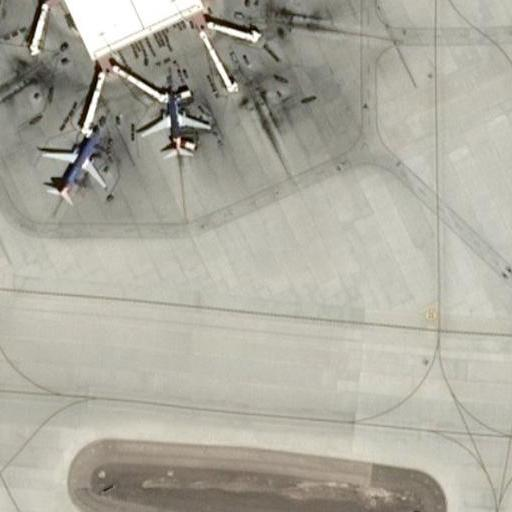Aircraft: (33, 123, 106, 203), (138, 89, 213, 157), (0, 0, 2, 29)
